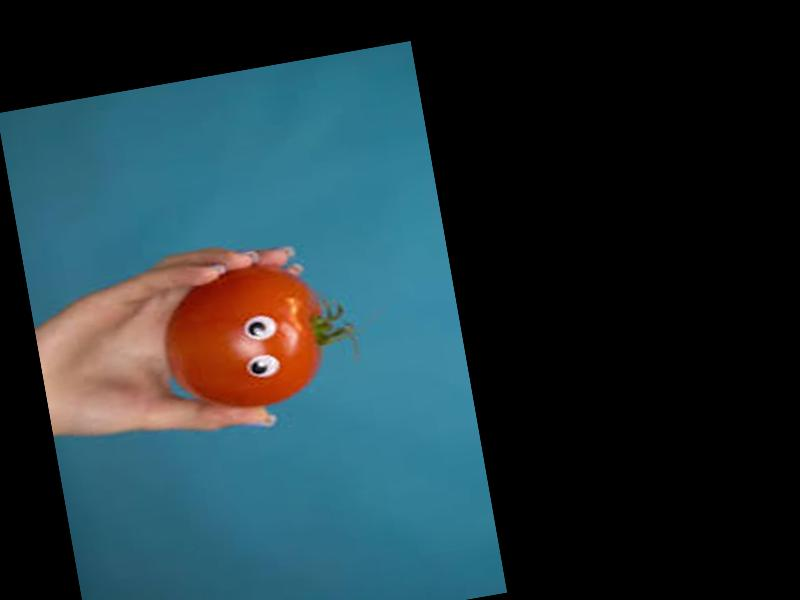Tomato: (152, 254, 337, 422)
